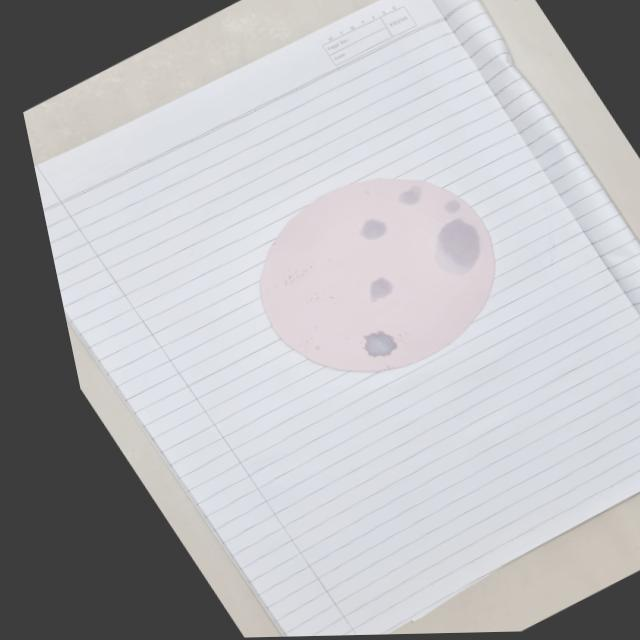BlueColor: (436, 218, 481, 275), (364, 331, 397, 357), (370, 277, 393, 301), (360, 219, 387, 239), (399, 186, 421, 204), (444, 198, 461, 214)
